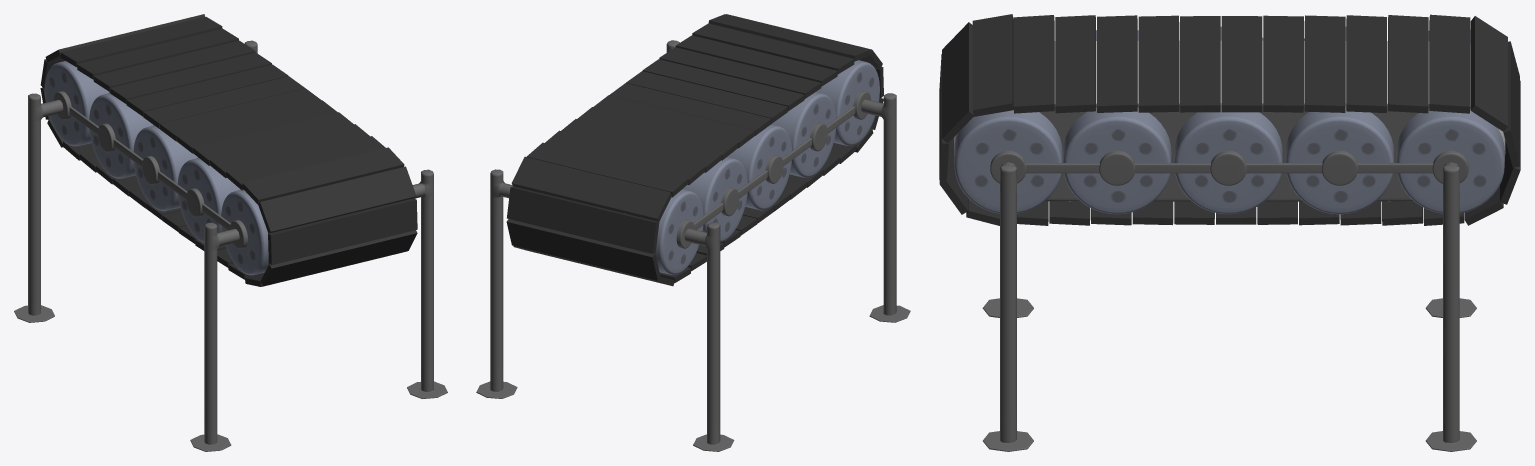
File: conveyor anim bake.glb
The picture shows the model from 3 angles, left to right: view 1: azimuth 30°, elevation 25°; view 2: azimuth 150°, elevation 25°; view 3: azimuth 270°, elevation 25°; orthographic projection. The views are drawn at different scales.
Parts seen in each view (by area): view 1: Plane.002, Plane.003, pCube5, pCube4, Plane.032, pCube1, Plane.004, pCylinder6, pCylinder5, pCylinder7, pCylinder3, Plane.025 (+13 smaller); view 2: Plane.019, Plane.020, Plane.018, pCube4, pCube5, pCube3, Plane.021, pCylinder5, pCylinder4, pCylinder3, pCylinder7, Plane.022 (+13 smaller); view 3: pCylinder4, pCylinder5, pCylinder6, pCylinder7, pCylinder3, pCylinderShape9, pCube3, pCube1, Plane.026, Plane.024, Plane.021, Plane.031 (+28 smaller).
Boxes of the visible parts, x1,y1,x2,y2 form: Plane.002: (258,166,416,233); Plane.003: (268,198,417,264); pCube5: (190,222,239,451); pCube4: (14,93,63,322); Plane.032: (242,147,404,204); pCube1: (407,169,447,398); Plane.004: (260,230,417,286); pCylinder6: (89,93,153,178); pCylinder5: (133,125,197,211); pCylinder7: (45,60,109,146); pCylinder3: (221,190,268,275); Plane.025: (126,64,288,116); Plane.019: (507,186,659,253); Plane.020: (511,156,672,221); Plane.018: (506,219,660,280); pCube4: (684,222,734,451); pCube5: (861,93,910,322); pCube3: (476,169,517,398); Plane.021: (526,142,688,197); pCylinder5: (727,124,792,210); pCylinder4: (772,92,836,177); pCylinder3: (816,60,879,145); pCylinder7: (655,189,703,274); Plane.022: (545,130,705,184); pCylinder4: (1063,30,1171,214); pCylinder5: (1174,26,1282,214); pCylinder6: (1285,27,1393,214); pCylinder7: (1396,30,1504,213); pCylinder3: (954,110,1062,213); pCylinderShape9: (954,40,1505,201); pCube3: (1425,162,1476,451); pCube1: (983,162,1033,451); Plane.026: (1221,16,1262,112); Plane.024: (1304,15,1345,112); Plane.021: (1429,14,1470,113); Plane.031: (1013,15,1054,113).
Size of the model in its own units: 1.93 by 1.85 by 3.08.
Materials: 1 (1 with a texture image).
